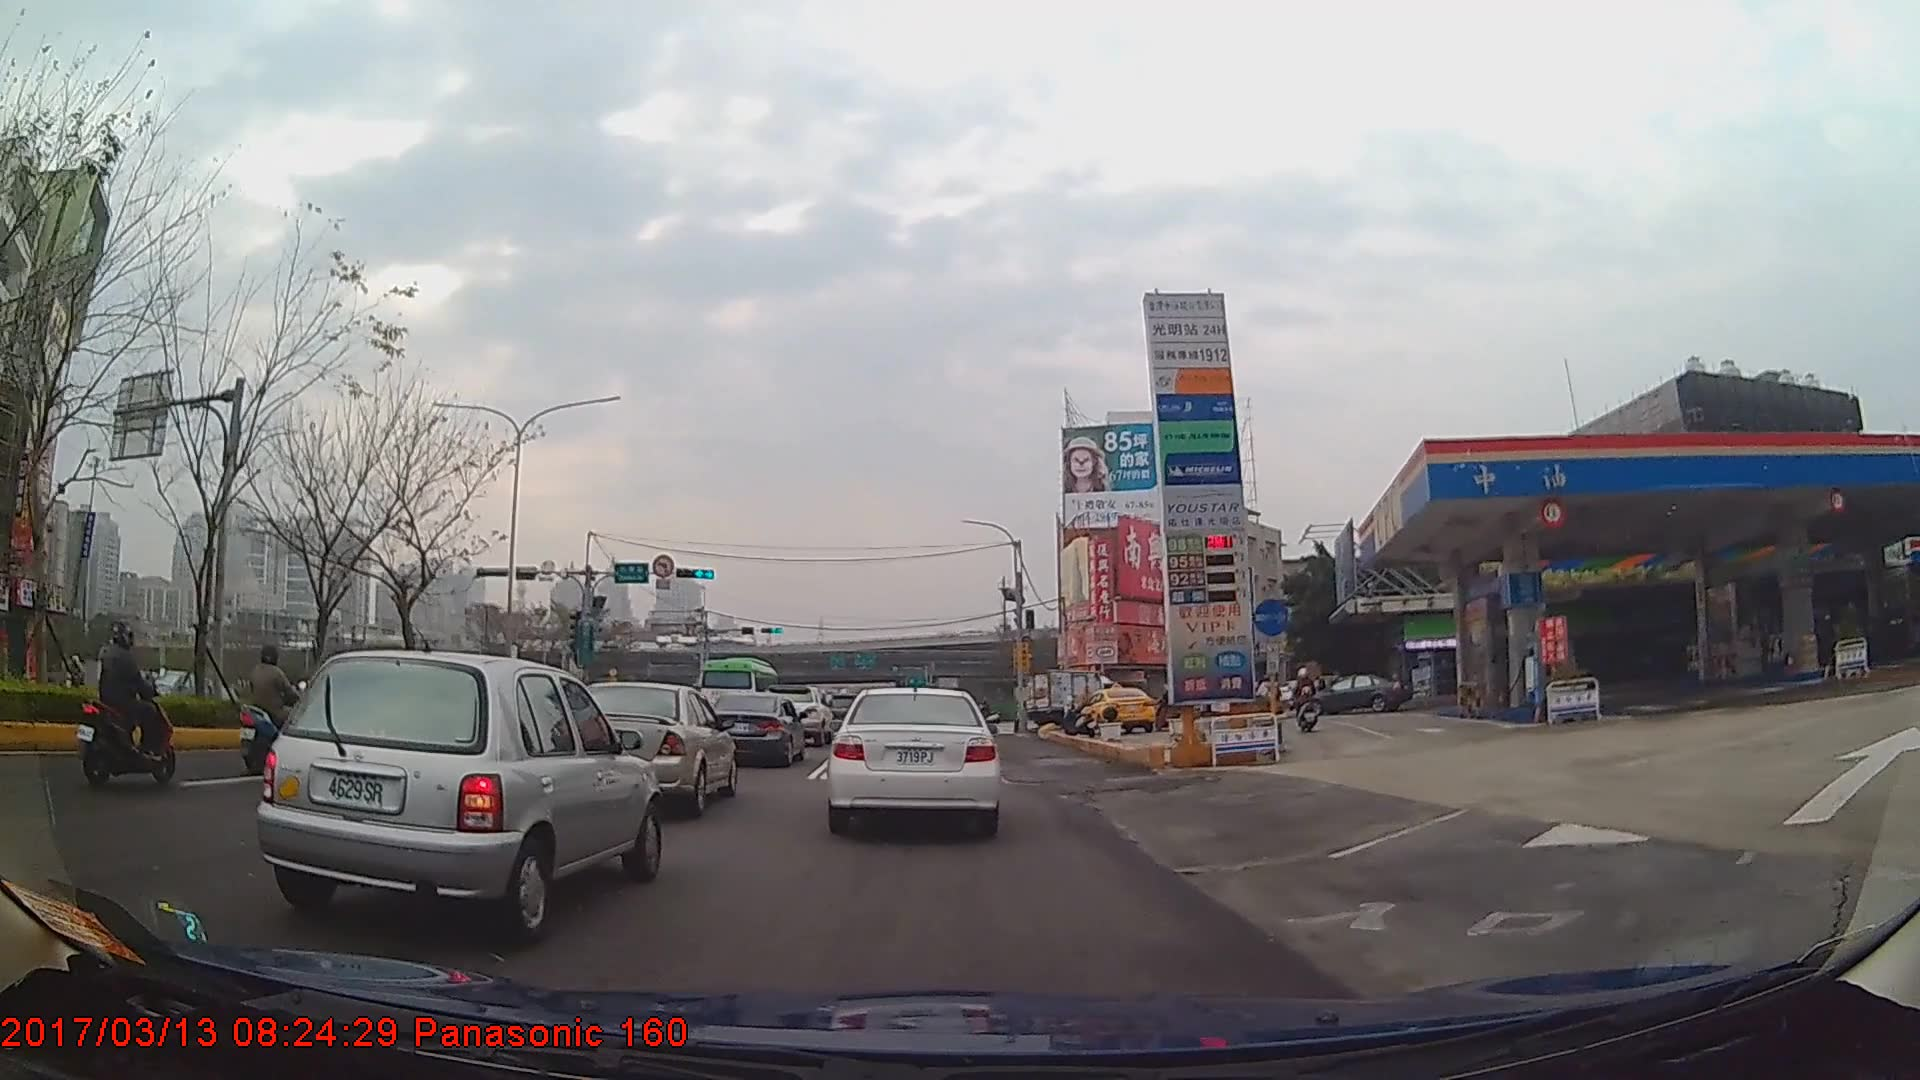rider: (76, 620, 174, 781), (231, 646, 319, 776), (1290, 669, 1321, 734), (1154, 685, 1183, 734), (1259, 675, 1279, 725)
vehicle: (251, 647, 665, 943), (829, 682, 999, 836), (565, 680, 737, 817), (703, 689, 808, 767), (1018, 668, 1121, 729), (696, 654, 781, 720), (758, 684, 833, 746), (1305, 673, 1408, 712), (1083, 683, 1156, 732), (132, 663, 199, 710)
